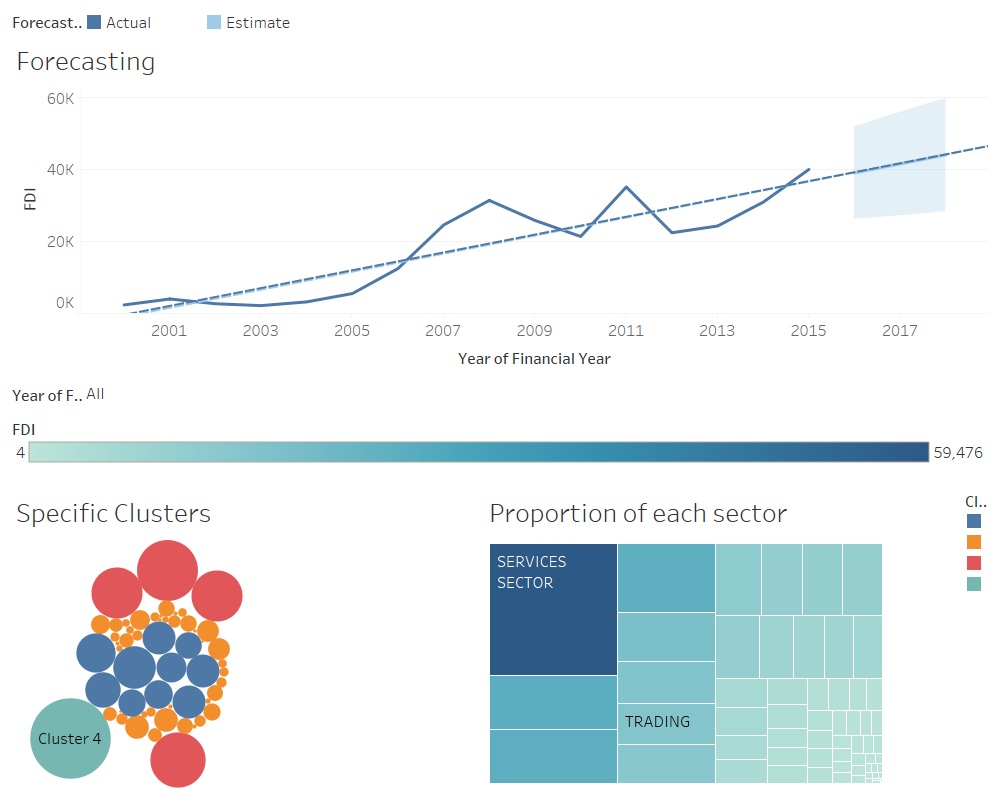

This screenshot's page, from the dashboard's own definition file:
{"tool":"tableau","page":{"name":"Dashboard 2","canvas":[1000,800],"ordinal":1},"visuals":[{"type":"worksheet","box":[0,0,1000,800]},{"type":"worksheet","param":"vert","box":[8,8,984,431]},{"type":"worksheet","title":"Forecasting","mark":"Automatic","rows":["Pivot Field Values"],"cols":["Calculation_1668583671280828416"],"param":"[federated.0at6pdx1hvt9tr10o7rg70qygbjm].[none:Forecast Indicator:nk]","box":[8,8,984,25]},{"type":"worksheet","title":"Forecasting","mark":"Automatic","rows":["Pivot Field Values"],"cols":["Calculation_1668583671280828416"],"box":[8,33,984,158]},{"type":"worksheet","title":"Proportion of each sector","mark":"Automatic","param":"[federated.0at6pdx1hvt9tr10o7rg70qygbjm].[yr:Calculation_1668583671280828416:ok]","box":[8,191,984,61]},{"type":"worksheet","title":"Specific Clusters","mark":"Circle","param":"[federated.0at6pdx1hvt9tr10o7rg70qygbjm].[none:AdhocCluster:1:ok]","box":[8,252,984,114]},{"type":"worksheet","title":"Proportion of each sector","mark":"Automatic","param":"[federated.0at6pdx1hvt9tr10o7rg70qygbjm].[sum:Pivot Field Values:qk]","box":[8,366,984,73]},{"type":"worksheet","param":"horz","box":[8,439,984,353]},{"type":"worksheet","title":"Specific Clusters","mark":"Circle","box":[8,439,389,353]},{"type":"worksheet","title":"Proportion of each sector","mark":"Automatic","box":[397,439,509,353]}]}

Visuals, with their boxes in screenshot pixels (x1, y1, x2, y2), scaled from the page's 1000x800 canvas onto the 1000x800 screenshot:
worksheet: bbox(0, 0, 999, 799)
worksheet: bbox(8, 8, 992, 439)
"Forecasting" worksheet: bbox(8, 8, 992, 33)
"Forecasting" worksheet: bbox(8, 33, 992, 191)
"Proportion of each sector" worksheet: bbox(8, 191, 992, 252)
"Specific Clusters" worksheet (Circle marks): bbox(8, 252, 992, 366)
"Proportion of each sector" worksheet: bbox(8, 366, 992, 439)
worksheet: bbox(8, 439, 992, 792)
"Specific Clusters" worksheet (Circle marks): bbox(8, 439, 397, 792)
"Proportion of each sector" worksheet: bbox(397, 439, 906, 792)
